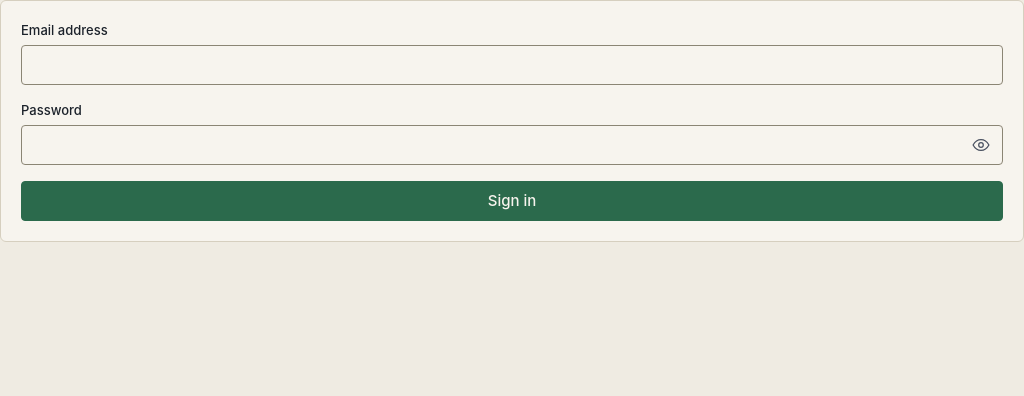
it: LoginForm › shows a specific message under each empty field and moves focus to the first
Click the button "Sign in" at (512, 201), box [21,181,1003,221]
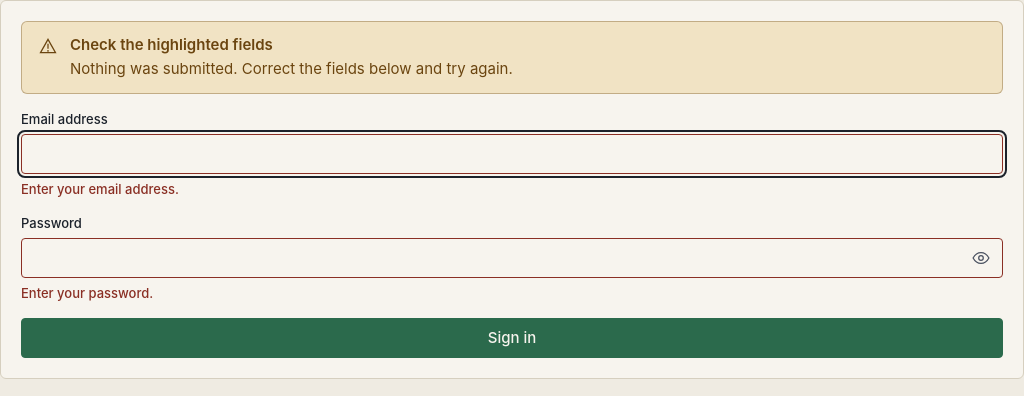
Expected: the text "Enter your email address." is shown, [21,181,179,197]
Expected: the text "Enter your password." is shown, [21,285,153,301]
Expected: the text "Check the highlighted fields" is shown, [70,35,273,54]
